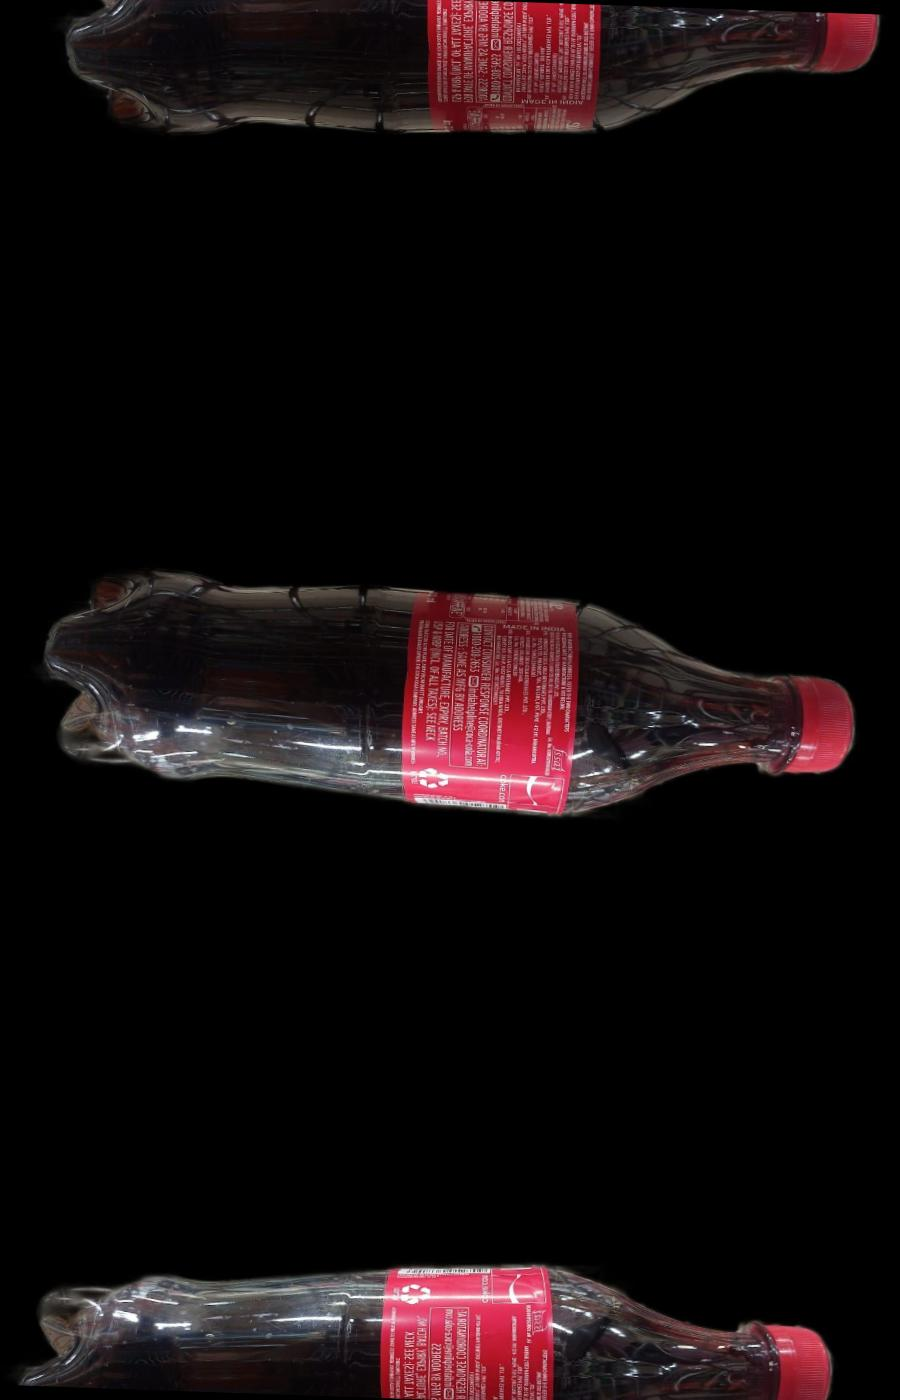Coca-Cola-600 ml-: (45, 556, 862, 828), (67, 0, 882, 170), (24, 1247, 838, 1400)
